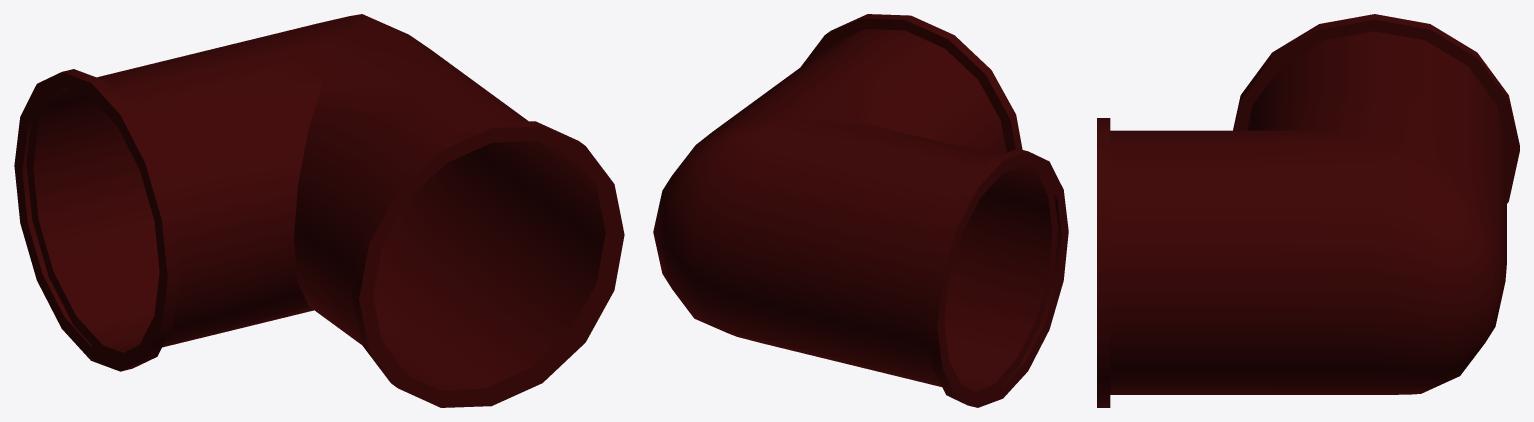
Rendered from Turn_Right.fbx.
3 views of the same model, side by side, from view 1: azimuth 30°, elevation 25°; view 2: azimuth 150°, elevation 25°; view 3: azimuth 270°, elevation 25° (orthographic). The views are drawn at different scales.
Parts seen in each view (by area): view 1: PipeTurn; view 2: PipeTurn; view 3: PipeTurn.
Part boxes in pixels (x1,y1,x2,y2): PipeTurn: [14, 14, 624, 407]; PipeTurn: [653, 14, 1068, 407]; PipeTurn: [1097, 14, 1519, 407].
Bounding box in the file's own units: 320 × 220 × 320.
